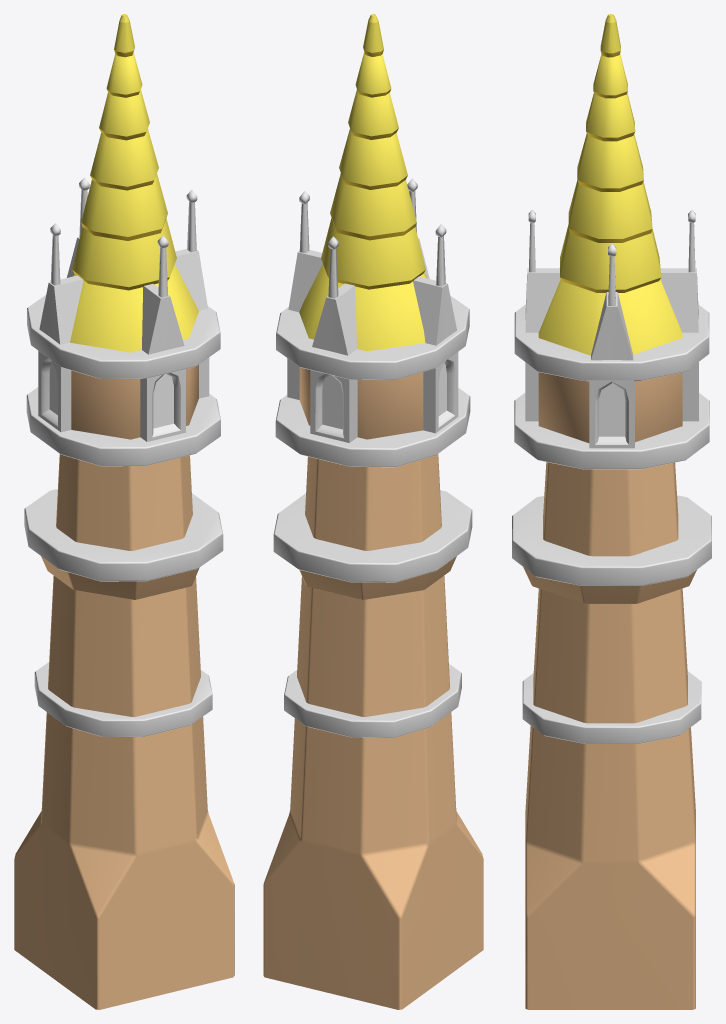
Rendered from castle_tower_004.gltf.
3 views of the same model, side by side, from view 1: azimuth 30°, elevation 25°; view 2: azimuth 150°, elevation 25°; view 3: azimuth 270°, elevation 25° (orthographic).
Parts seen in each view (by area): view 1: castle_tower_004; view 2: castle_tower_004; view 3: castle_tower_004.
Part boxes in pixels (x1,y1,x2,y2): castle_tower_004: (14, 14, 234, 1009); castle_tower_004: (263, 14, 483, 1009); castle_tower_004: (512, 14, 711, 1009).
Bounding box in the file's own units: 3.3 × 18.6 × 3.51.
2 materials, 1 textured.
